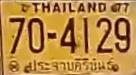0: (28, 17, 44, 52)
1: (83, 18, 88, 52)
2: (96, 17, 112, 52)
4: (60, 17, 76, 52)
7: (8, 17, 24, 53)
9: (114, 17, 130, 52)
PKN: (25, 56, 115, 73)
